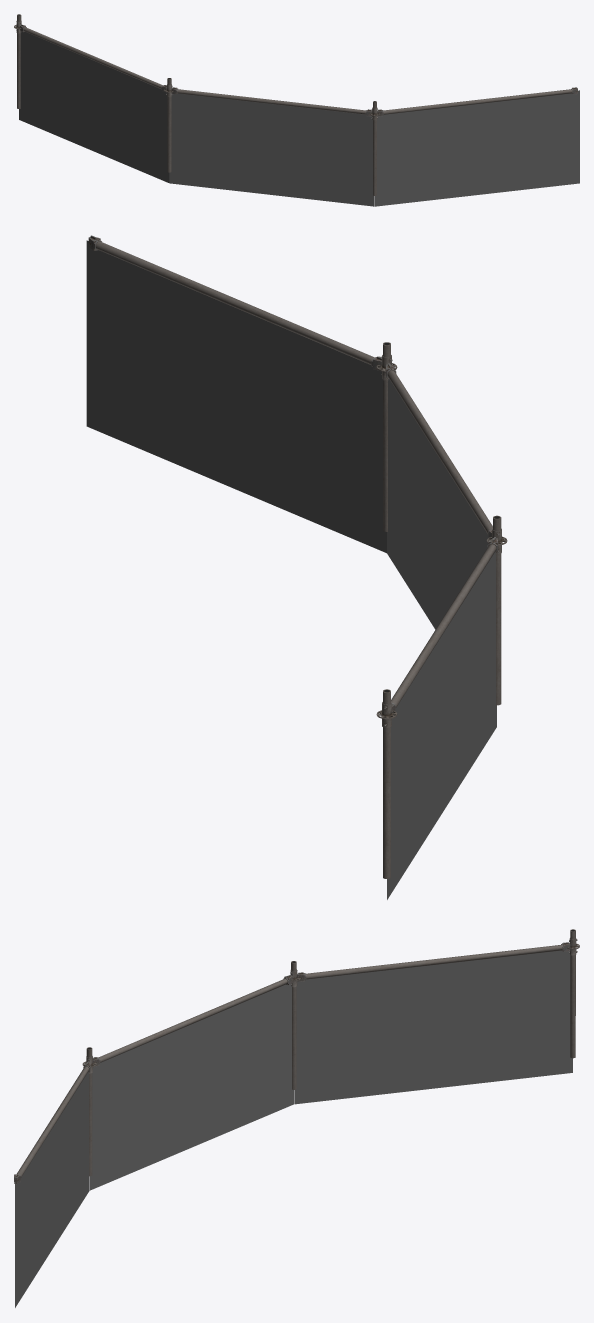
Rendered from scaffold_mid_turnl_96x192.fbx.
The picture shows the model from 3 angles, top to bottom: view 1: azimuth 30°, elevation 25°; view 2: azimuth 150°, elevation 25°; view 3: azimuth 270°, elevation 25°; orthographic projection. The views are drawn at different scales.
Visible parts, largest first — view 1: scaffold_mid_turnL_96x192; view 2: scaffold_mid_turnL_96x192; view 3: scaffold_mid_turnL_96x192.
Boxes of the visible parts, x1,y1,x2,y2 form: scaffold_mid_turnL_96x192: (14, 14, 579, 206); scaffold_mid_turnL_96x192: (86, 235, 507, 899); scaffold_mid_turnL_96x192: (14, 929, 579, 1307).
Bounding box in the file's own units: 389 × 108 × 389.
